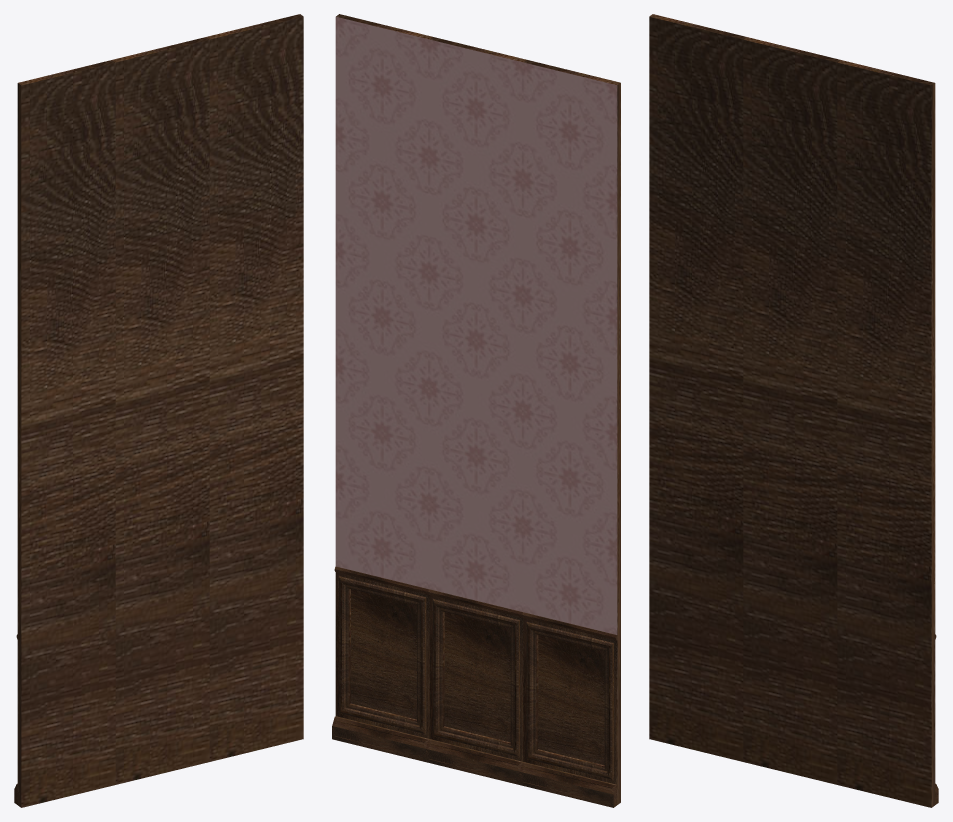
Rendered from Mur_Fille_3X.fbx.
3 renders of one model, left to right at view 1: azimuth 30°, elevation 25°; view 2: azimuth 150°, elevation 25°; view 3: azimuth 330°, elevation 25°, orthographic.
Parts seen in each view (by area): view 1: Cube; view 2: Cube; view 3: Cube.
Part boxes in pixels (x1=…): Cube: x1=14, y1=14, x2=303, y2=807; Cube: x1=332, y1=14, x2=620, y2=807; Cube: x1=649, y1=14, x2=938, y2=807.
Bounding box in the file's own units: 450 × 1100 × 20.
